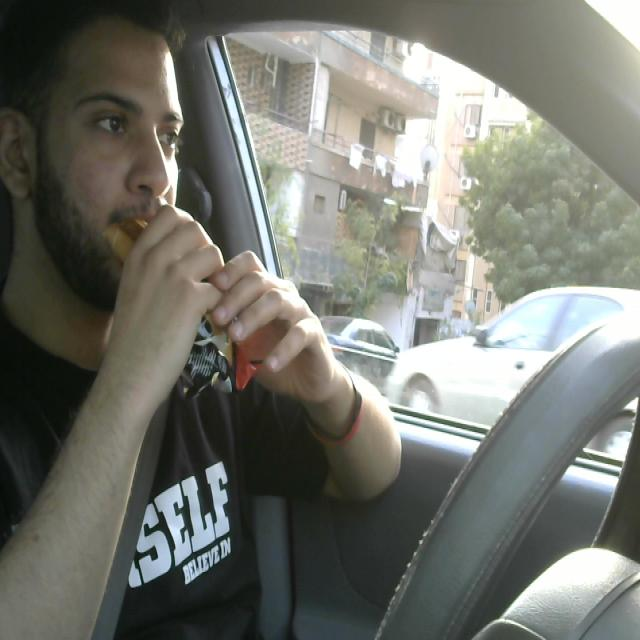eating: (104, 207, 264, 401)
